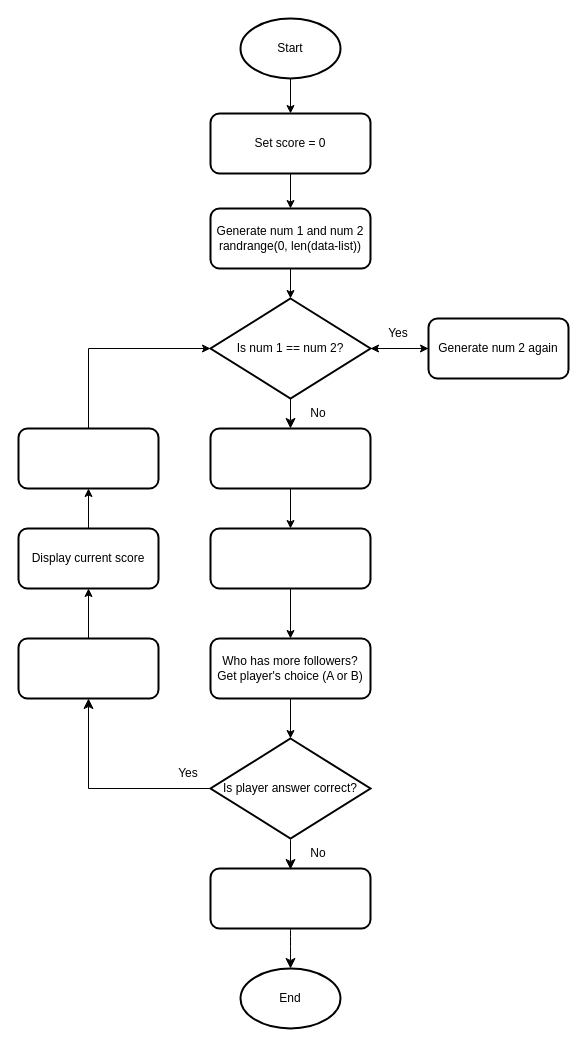
The diagram is 586 pixels wide and 1046 high, and some of its shapes have lost their labels. Here are the shapes that lost their labels. From the top down, the box of each, then its label:
(17, 427, 159, 489): Set num 1 = num 2 Generate new num 2
(209, 427, 371, 489): Pick the 2 data from data-list with num1, num2
(209, 527, 371, 589): Display the 2 data A and B
(17, 637, 159, 699): Player's score += 1
(209, 867, 371, 929): Display the final score
